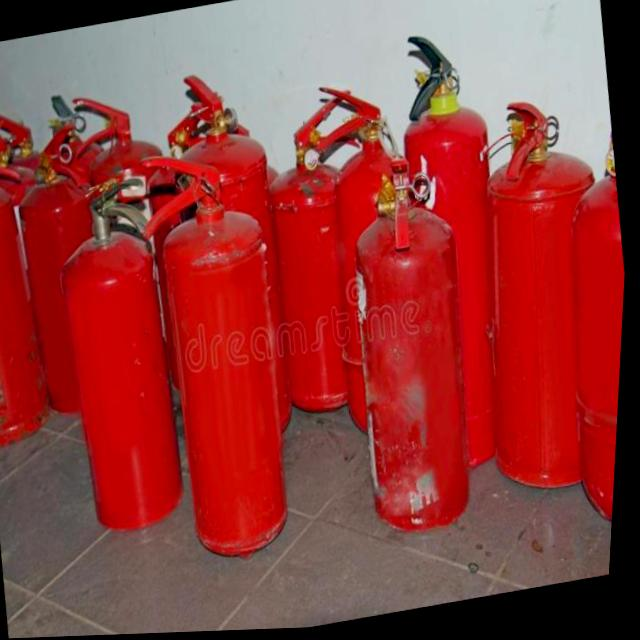FireExtinguisher: (113, 125, 337, 580), (370, 14, 559, 487), (441, 81, 636, 519), (318, 139, 500, 550), (292, 60, 477, 459), (157, 51, 332, 466), (36, 159, 217, 553), (52, 71, 234, 454), (238, 79, 430, 439), (521, 109, 635, 567), (0, 114, 140, 427), (0, 99, 74, 458)
